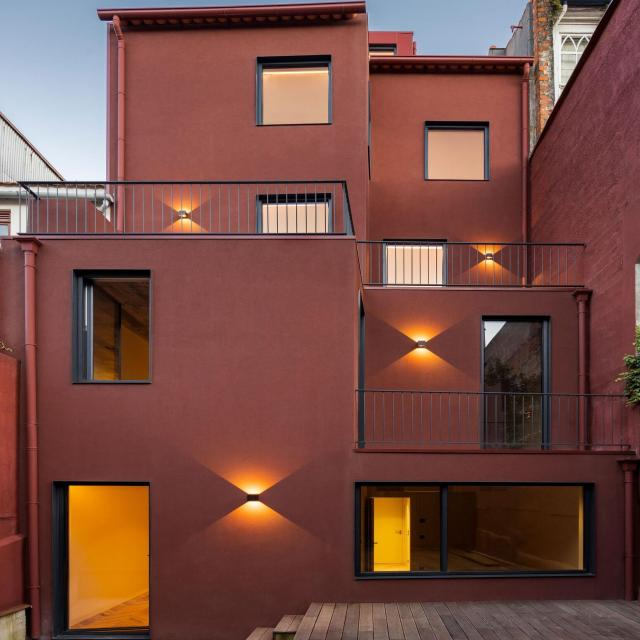door: (68, 482, 152, 629)
railing: (29, 180, 353, 233), (359, 389, 624, 449), (356, 241, 587, 290)
window: (366, 487, 590, 576), (87, 278, 149, 379), (482, 315, 547, 392), (264, 65, 330, 122), (428, 124, 488, 180)
